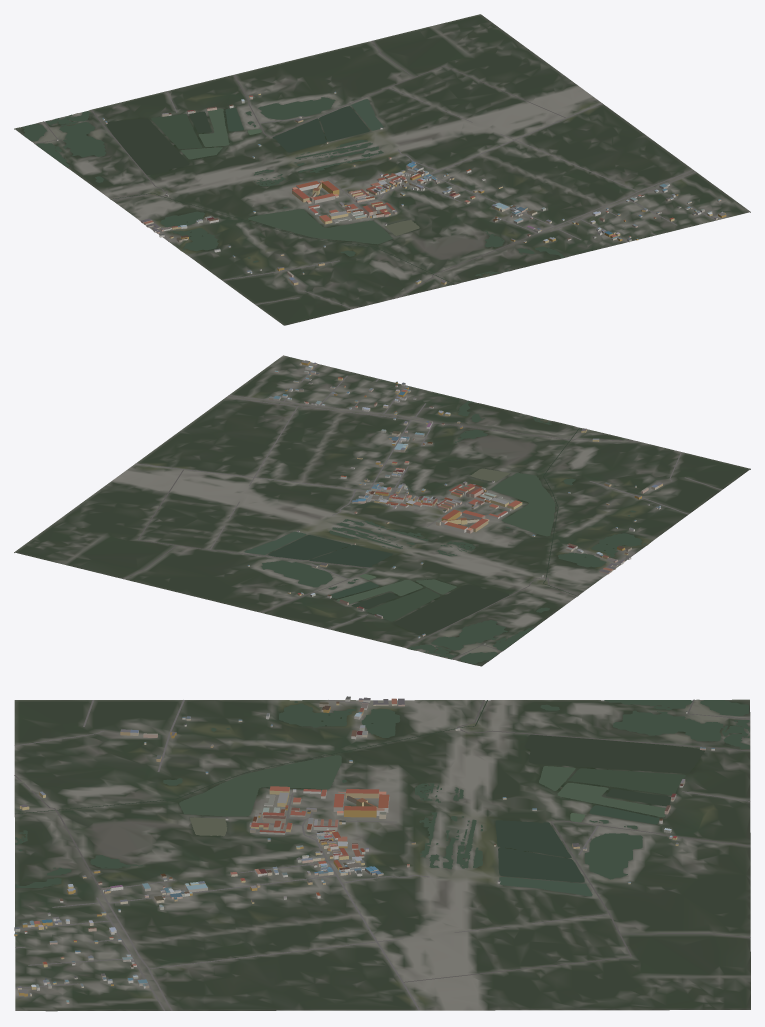
3 views of the same model, one above another, from view 1: azimuth 30°, elevation 25°; view 2: azimuth 150°, elevation 25°; view 3: azimuth 270°, elevation 25° (orthographic). The views are drawn at different scales.
Visible parts, largest first — view 1: ground, water, buildings, roads; view 2: ground, water, buildings, roads; view 3: ground, water, buildings, roads.
Part boxes in pixels (left/top/right/bottom): ground: left=14, top=14, right=750, bottom=325; water: left=22, top=97, right=565, bottom=284; buildings: left=57, top=91, right=726, bottom=285; roads: left=34, top=40, right=716, bottom=308; ground: left=14, top=355, right=750, bottom=666; water: left=244, top=401, right=646, bottom=664; buildings: left=247, top=360, right=662, bottom=644; roads: left=122, top=363, right=721, bottom=659; ground: left=14, top=699, right=750, bottom=1011; water: left=15, top=700, right=749, bottom=896; buildings: left=14, top=696, right=714, bottom=1003; roads: left=14, top=699, right=750, bottom=1010.
Bounding box in the file's own units: 1408 × 18.91 × 1404.
